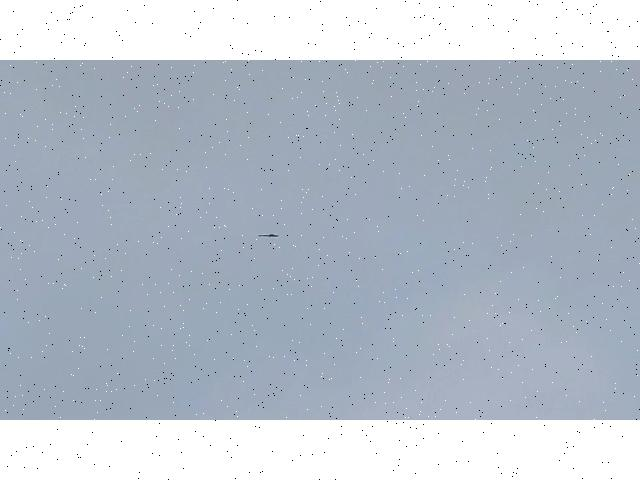Anti-Drone: (258, 232, 280, 239)
